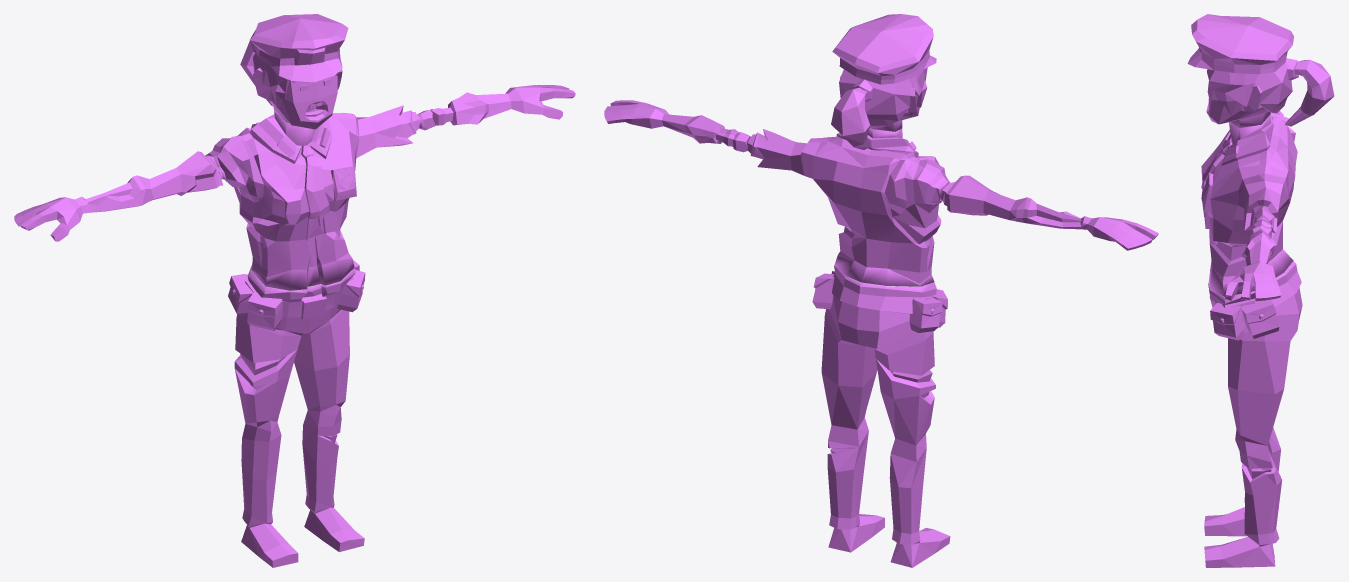
File: FinalZombiePoliceFemale.fbx
3 renders of one model, left to right at view 1: azimuth 30°, elevation 25°; view 2: azimuth 150°, elevation 25°; view 3: azimuth 270°, elevation 25°, orthographic.
Parts seen in each view (by area): view 1: Legs.006, Body.006, Head.006, RightArm.006, LeftArm.006; view 2: Legs.006, Body.006, Head.006, RightArm.006, LeftArm.006; view 3: Legs.006, Body.006, Head.006, LeftArm.006.
Part boxes in pixels (x1,y1,x2,y2): Legs.006: [228, 260, 365, 567]; Body.006: [207, 105, 421, 290]; Head.006: [240, 14, 348, 129]; RightArm.006: [14, 151, 223, 241]; LeftArm.006: [417, 85, 575, 130]; Legs.006: [812, 265, 950, 567]; Body.006: [746, 128, 949, 286]; Head.006: [831, 14, 936, 149]; RightArm.006: [940, 175, 1158, 250]; LeftArm.006: [604, 100, 750, 152]; Legs.006: [1204, 261, 1302, 567]; Body.006: [1201, 112, 1297, 296]; Head.006: [1187, 14, 1334, 127]; LeftArm.006: [1224, 218, 1281, 301].
Size of the model in its own units: 204 by 184 by 47.1.
